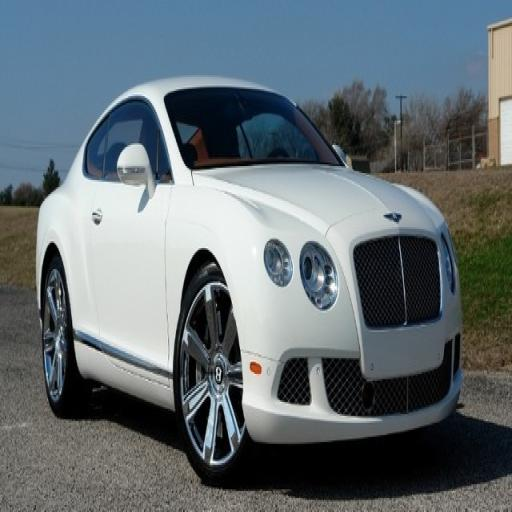normal: (26, 74, 466, 503)
